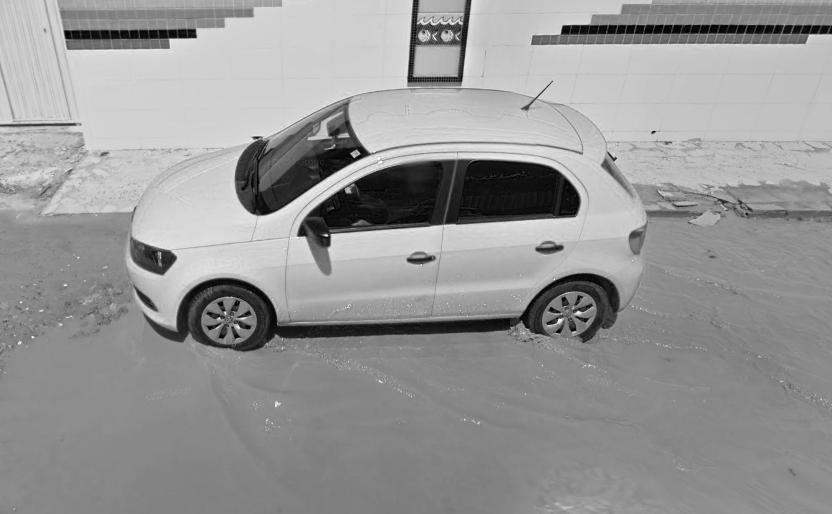car: (121, 76, 650, 355)
